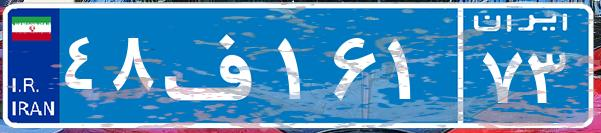1: (385, 28, 445, 110), (273, 28, 330, 110)
3: (525, 38, 570, 115)
4: (57, 26, 110, 107)
6: (330, 28, 385, 110)
7: (475, 38, 525, 113)
8: (110, 28, 158, 105)
ف: (158, 15, 273, 115)
